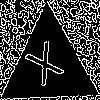X: (24, 40, 71, 96)
